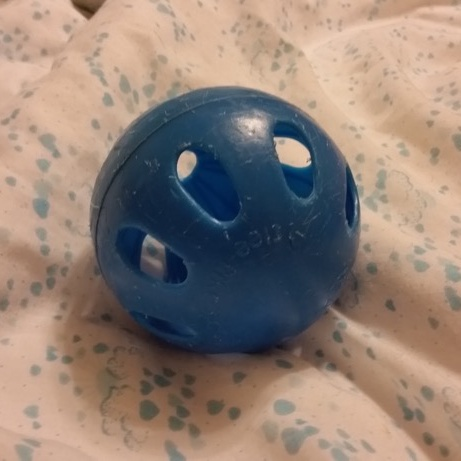blueball: (85, 82, 367, 360)
